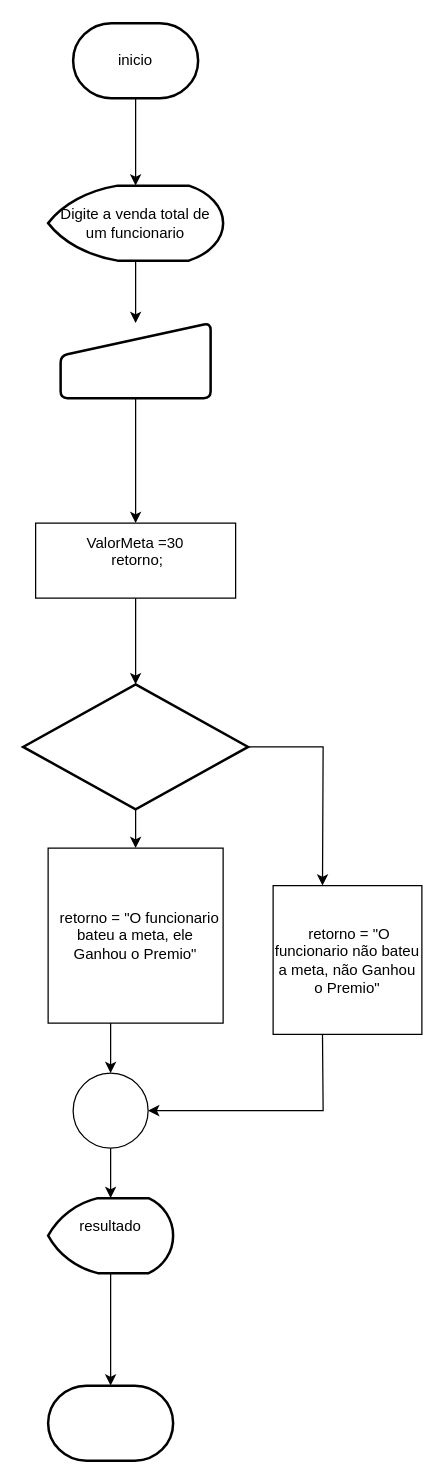
This 444x1483 diagram has some shape labels left out. Each missing label, with the centre of its shape:
"fim" goes at (x=110, y=1422).
"ValorVenda" goes at (x=135, y=360).
"ValorVenda >= ValorMeta" goes at (x=135, y=746).
